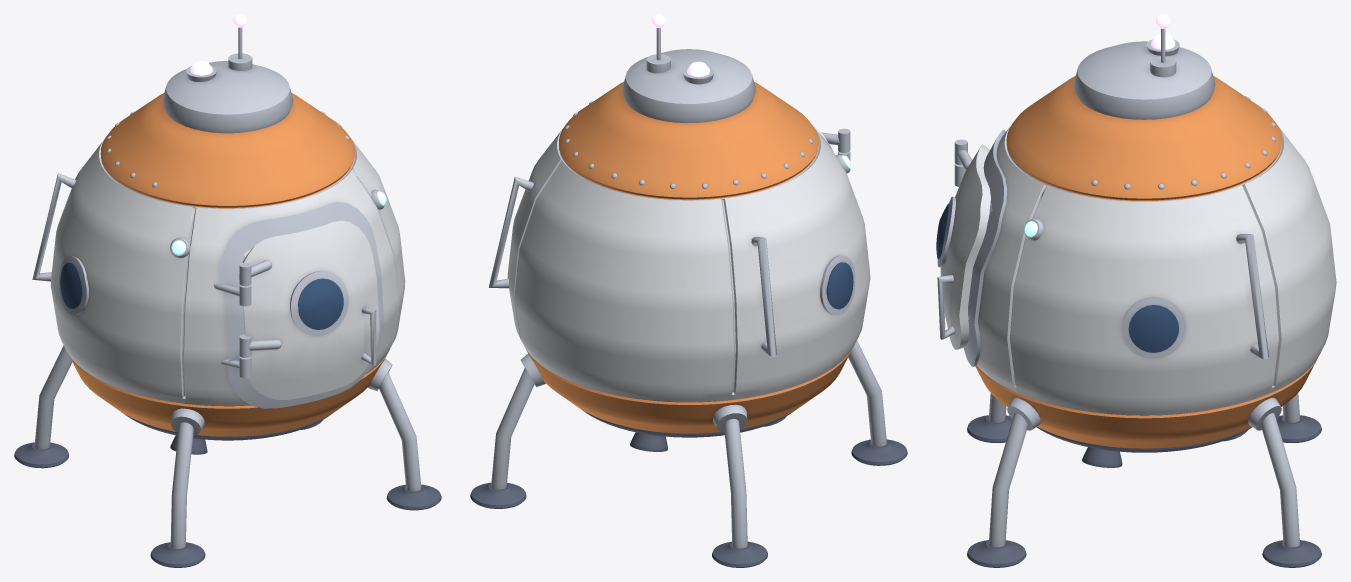
Rendered from escape-pod-wreck.glb.
The picture shows the model from 3 angles, left to right: view 1: azimuth 30°, elevation 25°; view 2: azimuth 150°, elevation 25°; view 3: azimuth 270°, elevation 25°; orthographic projection. The views are drawn at different scales.
Visible parts, largest first — view 1: escape-pod_body, escape-pod_hatch; view 2: escape-pod_body; view 3: escape-pod_body, escape-pod_hatch.
Boxes of the visible parts, x1,y1,x2,y2 form: escape-pod_body: [14, 27, 441, 567]; escape-pod_hatch: [239, 220, 379, 399]; escape-pod_body: [470, 27, 907, 567]; escape-pod_body: [954, 28, 1336, 567]; escape-pod_hatch: [936, 139, 990, 349].
Bounding box in the file's own units: 2.1 × 2.9 × 2.15.
5 materials, 2 textured.
